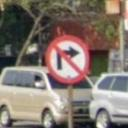NoVirarDireita: (43, 34, 93, 86)
